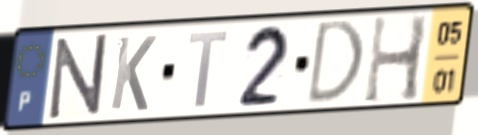2: (232, 21, 295, 113)
D: (303, 17, 368, 109)
H: (360, 12, 432, 107)
K: (107, 34, 160, 114)
N: (47, 31, 110, 123)
T: (185, 28, 231, 111)
